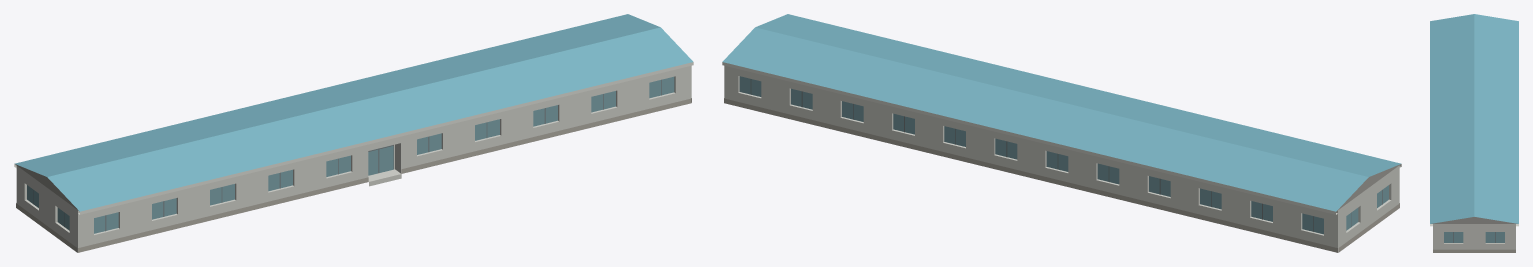
3 views of the same model, side by side, from view 1: azimuth 30°, elevation 25°; view 2: azimuth 150°, elevation 25°; view 3: azimuth 270°, elevation 25° (orthographic). The views are drawn at different scales.
Visible parts, largest first — view 1: aux778946317__roofAccent, aux778946317__wall, aux778946317__glass, aux778946317__base, aux778946317__trim, aux778946317__frame, aux778946317__wall2; view 2: aux778946317__roofAccent, aux778946317__wall, aux778946317__glass, aux778946317__base, aux778946317__trim, aux778946317__wall2; view 3: aux778946317__roofAccent, aux778946317__wall, aux778946317__glass, aux778946317__wall2, aux778946317__base.
Part boxes in pixels (x1,y1,x2,y2): aux778946317__roofAccent: (15, 14, 693, 211); aux778946317__wall: (16, 65, 691, 252); aux778946317__glass: (27, 76, 674, 233); aux778946317__base: (16, 98, 691, 252); aux778946317__trim: (14, 62, 693, 214); aux778946317__frame: (33, 79, 661, 231); aux778946317__wall2: (15, 164, 78, 210); aux778946317__roofAccent: (722, 14, 1401, 211); aux778946317__wall: (724, 65, 1399, 252); aux778946317__glass: (739, 76, 1388, 234); aux778946317__base: (724, 98, 1399, 252); aux778946317__trim: (722, 62, 1401, 214); aux778946317__wall2: (1337, 164, 1400, 210); aux778946317__roofAccent: (1430, 14, 1518, 223); aux778946317__wall: (1433, 224, 1515, 249); aux778946317__glass: (1444, 232, 1504, 242); aux778946317__wall2: (1431, 217, 1517, 223); aux778946317__base: (1433, 249, 1515, 252).
Size of the model in its own units: 60.44 by 5.4 by 11.17.
